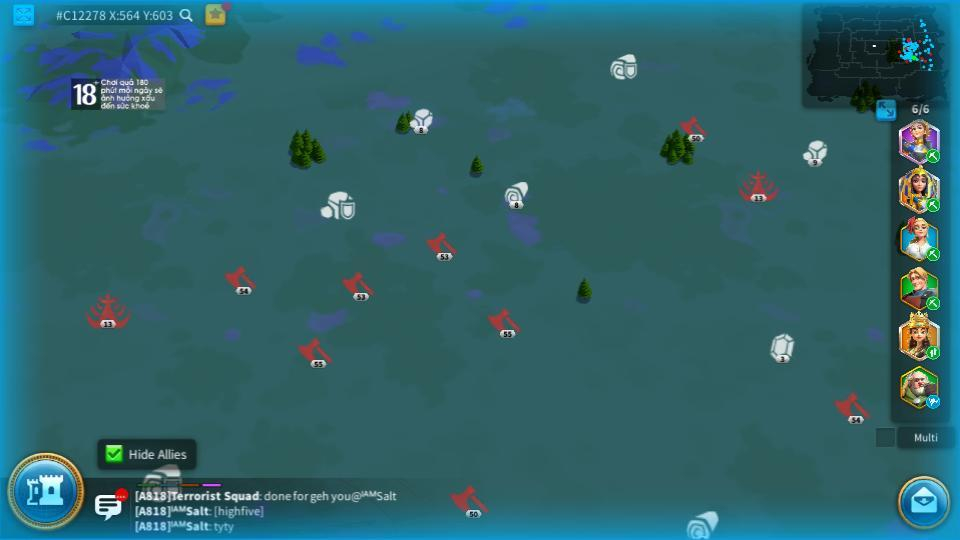gem-z-out: (770, 333, 796, 361)
march_farming: (924, 197, 939, 212)
march_idle: (925, 396, 942, 408)
march_marching: (925, 347, 941, 359)
